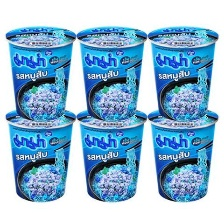paper_cup: (0, 19, 79, 124), (144, 21, 223, 125), (72, 19, 150, 124), (144, 104, 224, 206), (73, 104, 151, 205), (0, 104, 78, 205)
